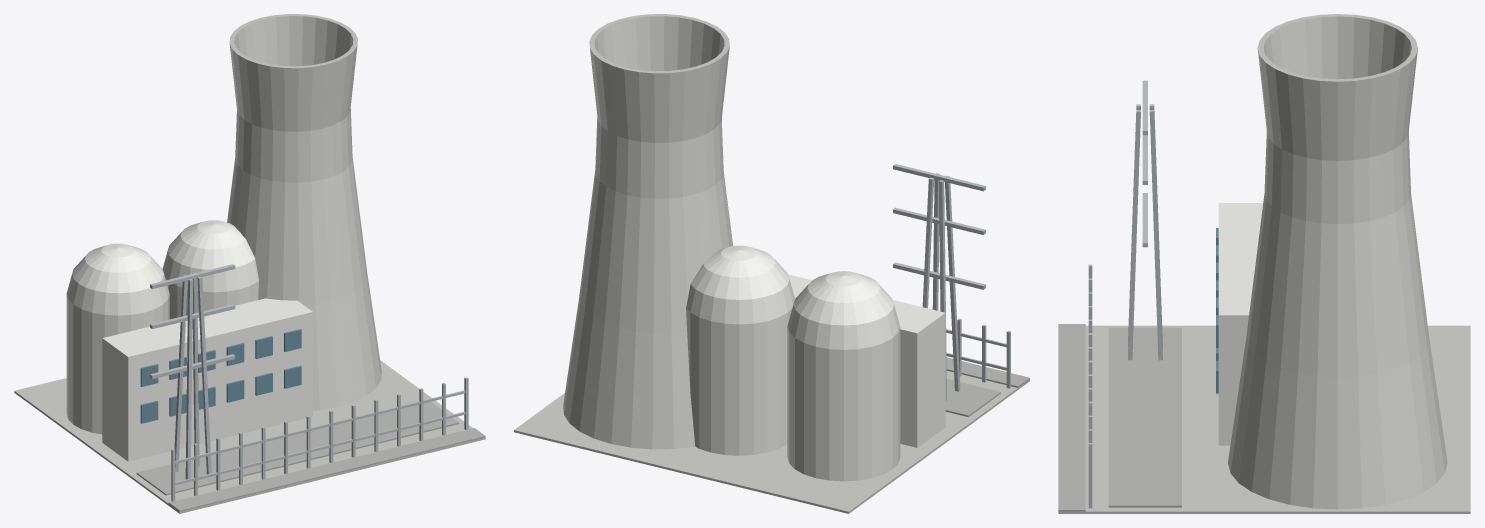
Rendered from nuclear.fbx.
3 views of the same model, side by side, from view 1: azimuth 30°, elevation 25°; view 2: azimuth 150°, elevation 25°; view 3: azimuth 270°, elevation 25° (orthographic). The views are drawn at different scales.
Visible parts, largest first — view 1: nuclear; view 2: nuclear; view 3: nuclear.
Boxes of the visible parts, bbox=[...] form: nuclear: bbox=[14, 14, 485, 513]; nuclear: bbox=[514, 14, 1029, 513]; nuclear: bbox=[1058, 14, 1470, 513].
Bounding box in the file's own units: 960 × 1006 × 900.
